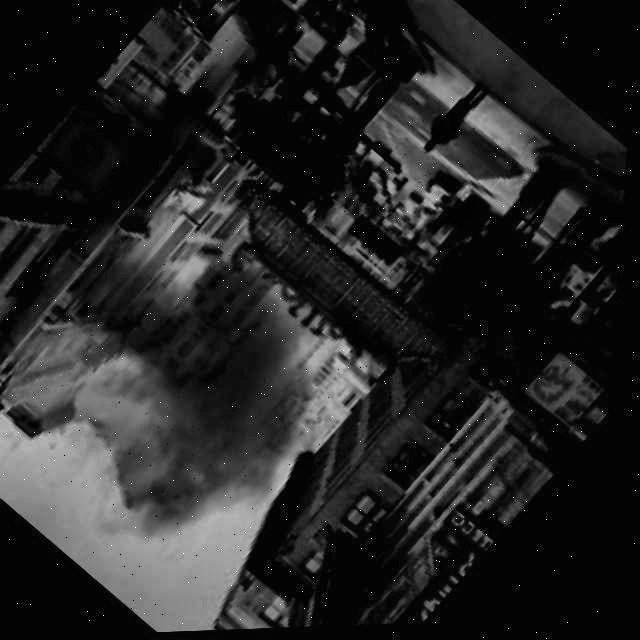Smoke: (0, 105, 453, 634)
